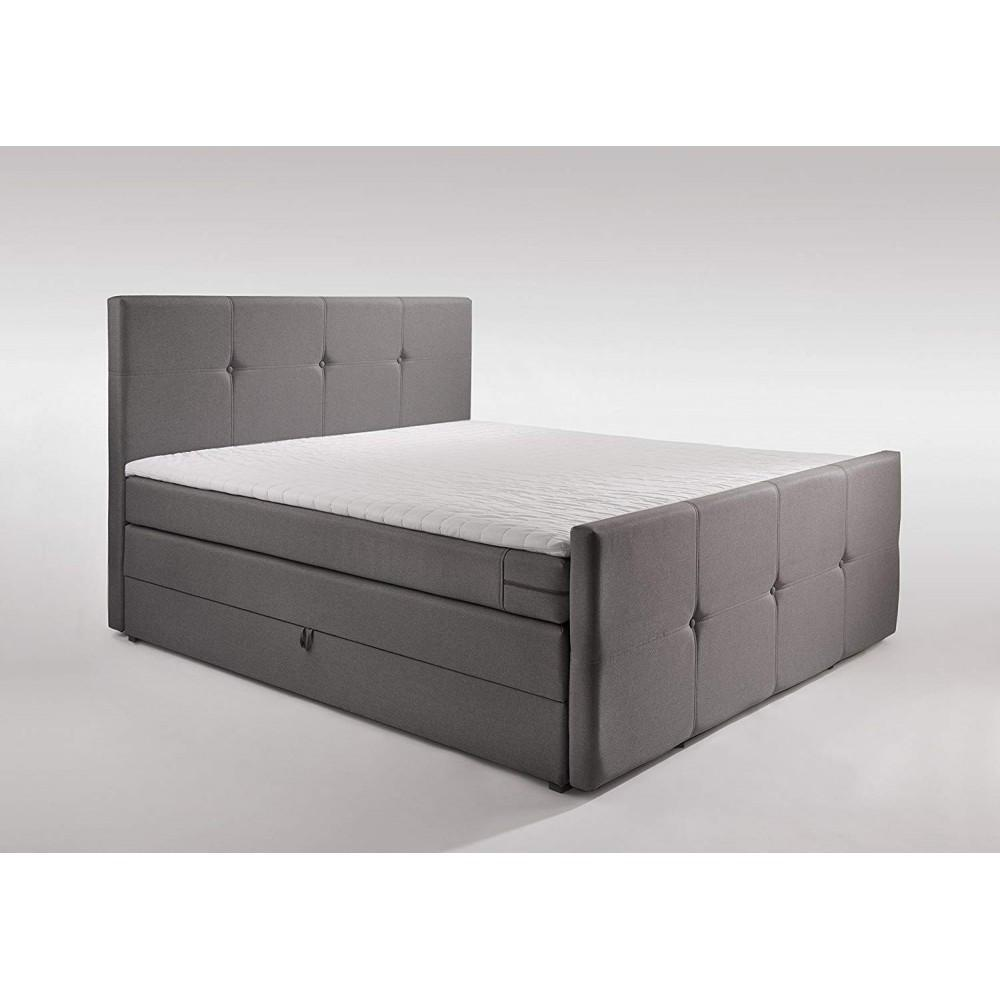bed: (25, 238, 932, 745)
